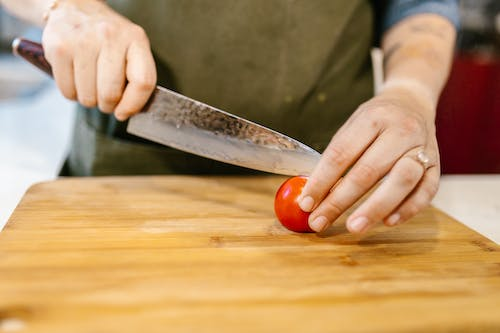knife: (125, 85, 321, 176)
